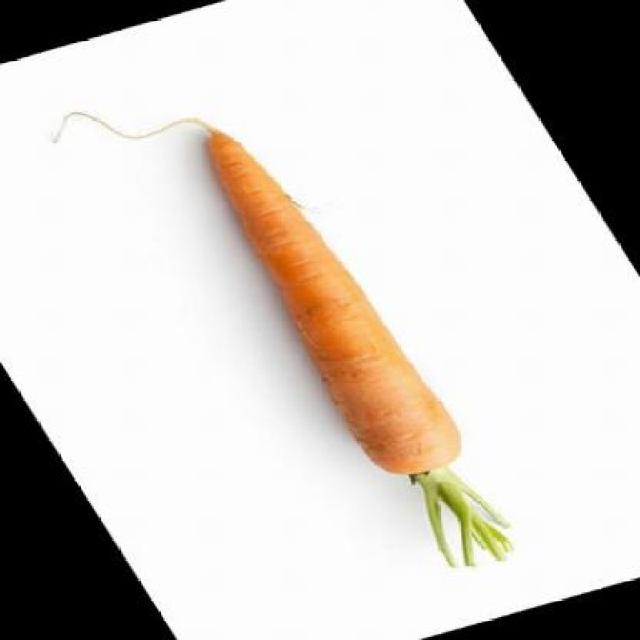carrot: (169, 121, 476, 482)
